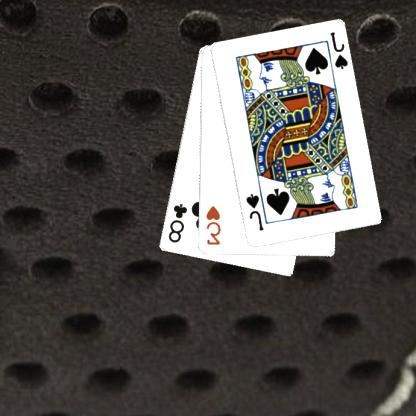3H: (205, 203, 224, 247)
8C: (167, 201, 190, 244)
JS: (245, 191, 266, 232), (329, 30, 350, 70)
